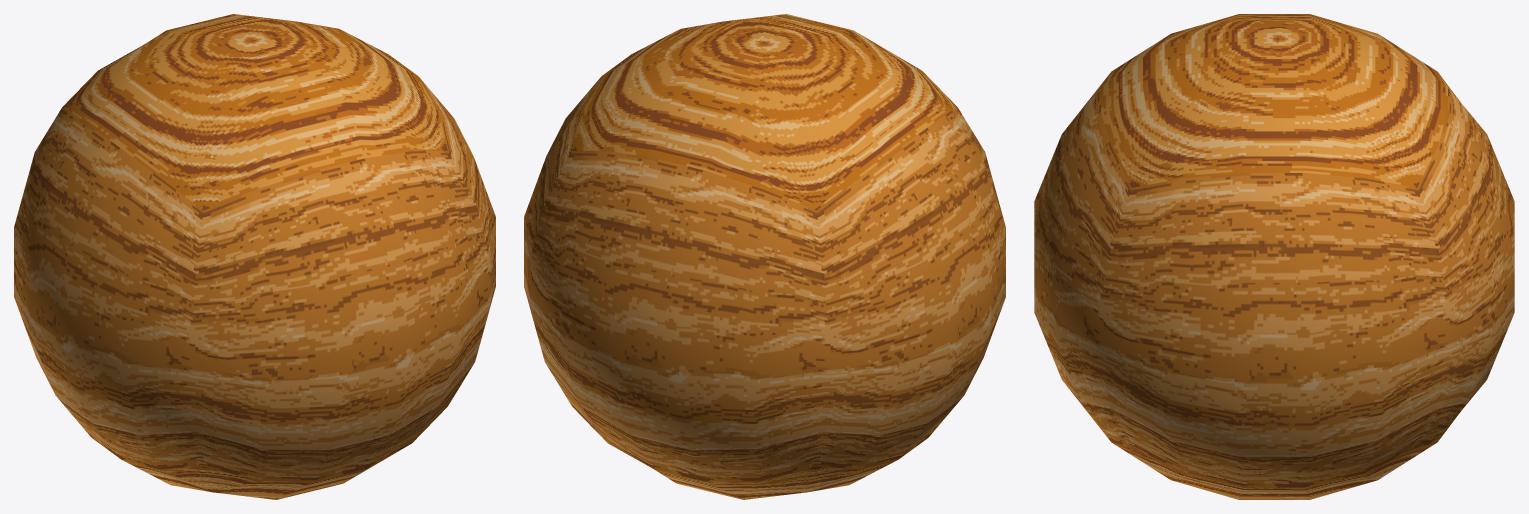
3 views of the same model, side by side, from view 1: azimuth 30°, elevation 25°; view 2: azimuth 150°, elevation 25°; view 3: azimuth 270°, elevation 25° (orthographic).
Visible parts, largest first — view 1: Asset3DLoader.sceneRoot; view 2: Asset3DLoader.sceneRoot; view 3: Asset3DLoader.sceneRoot.
Part boxes in pixels (<box>): Asset3DLoader.sceneRoot: <box>14,14,495,499</box>; Asset3DLoader.sceneRoot: <box>524,14,1005,499</box>; Asset3DLoader.sceneRoot: <box>1034,14,1514,499</box>.
Size of the model in its own units: 3.36 by 3.36 by 3.36.
Materials: 1 (1 with a texture image).
